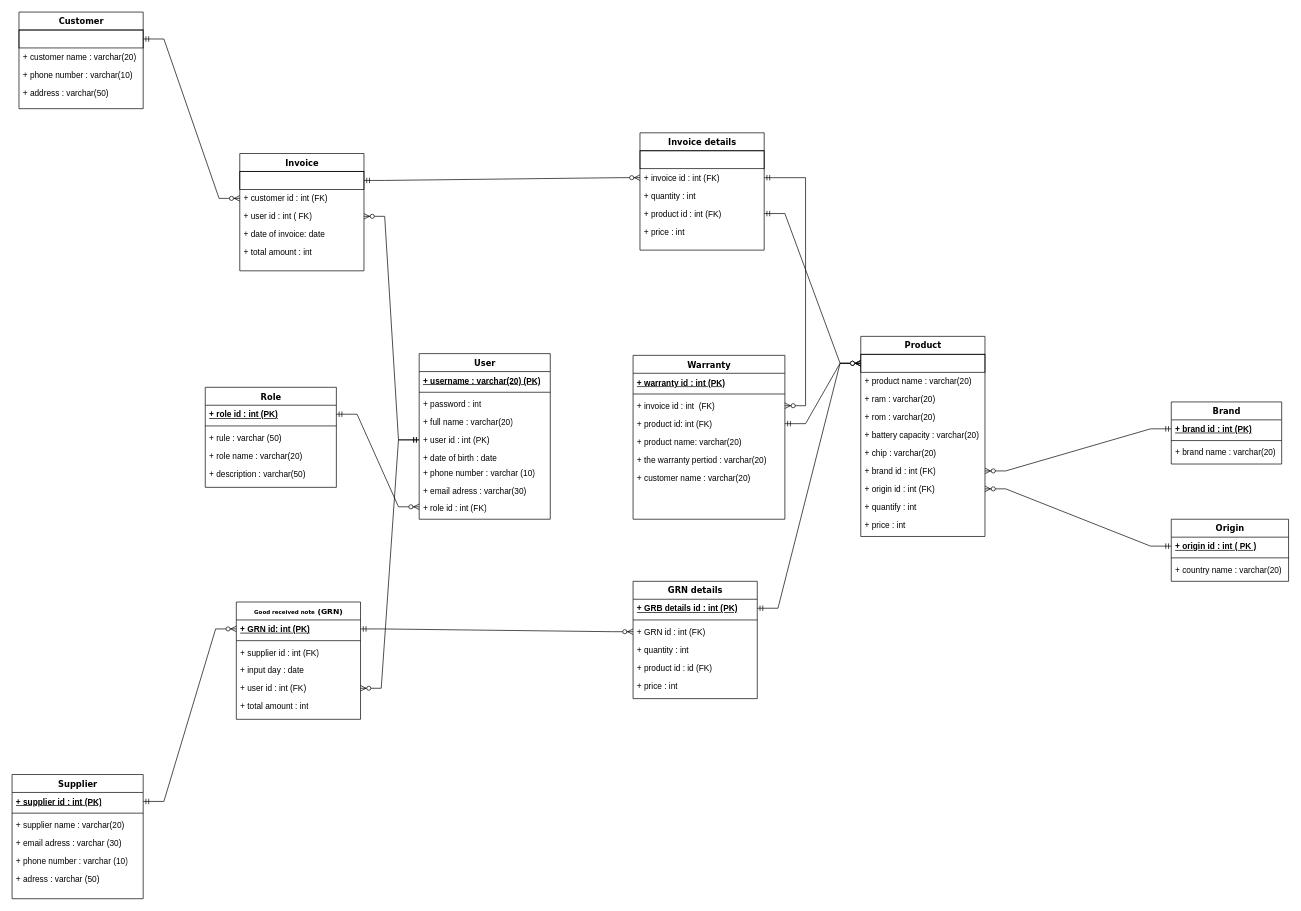
This 1301x911 diagram has some shape labels left out. The shapes that lost their labels are listed below. From the top down, each one's centre as x and y in pixels, then its label:
point 80,38: + customer id: int (PK)
point 701,159: + invoice details id: int (PK)
point 301,180: + invoice id: int (PK)
point 922,363: + product id : int (PK)
